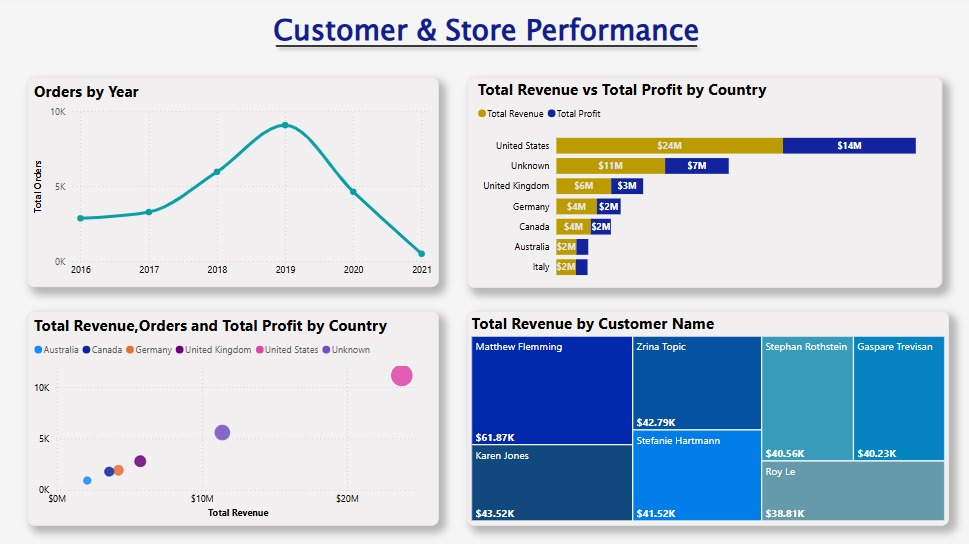

This screenshot's page, from the dashboard's own definition file:
{"tool":"powerbi","page":{"name":"Page 3","canvas":[1280,720],"ordinal":2},"visuals":[{"type":"textbox","box":[10.5,12,1257.5,79.3],"z":0},{"type":"treemap","fields":{"Values":["public customers.Total Revenue"],"Group":["public customers.name"]},"box":[613.4,412.4,631.1,280.8],"z":1000},{"type":"shape","box":[354.8,11.8,569.5,107.3],"z":2000},{"type":"barChart","fields":{"Y":["public customers.Total Revenue","public customers.Total Profit"],"Category":["public stores.country"]},"box":[613.4,106.4,622.3,276.4],"z":3000},{"type":"scatterChart","title":"Total Revenue,Orders and Total Profit by Country","fields":{"X":["public customers.Total Revenue"],"Y":["public sales.order_number"],"Series":["public stores.country"],"Size":["public customers.Total Profit"]},"box":[38,412,539,281],"z":4000},{"type":"lineChart","title":"Orders by Year","fields":{"Y":["public sales.order_number"],"Category":["public sales.order_date.Variation.Date Hierarchy.Year"]},"box":[38.5,106.5,538.6,275.2],"z":5000}]}

Visuals, with their boxes in screenshot pixels (x1, y1, x2, y2), scaled from the page's 1280x720 canvas onto the 969x544 screenshot:
textbox: (x1=8, y1=9, x2=960, y2=69)
treemap - public customers.Total Revenue x public customers.name: (x1=464, y1=312, x2=942, y2=524)
shape: (x1=269, y1=9, x2=700, y2=90)
barChart - public customers.Total Revenue x public customers.Total Profit: (x1=464, y1=80, x2=935, y2=289)
"Total Revenue,Orders and Total Profit by Country" scatterChart: (x1=29, y1=311, x2=437, y2=524)
"Orders by Year" lineChart: (x1=29, y1=80, x2=437, y2=288)
